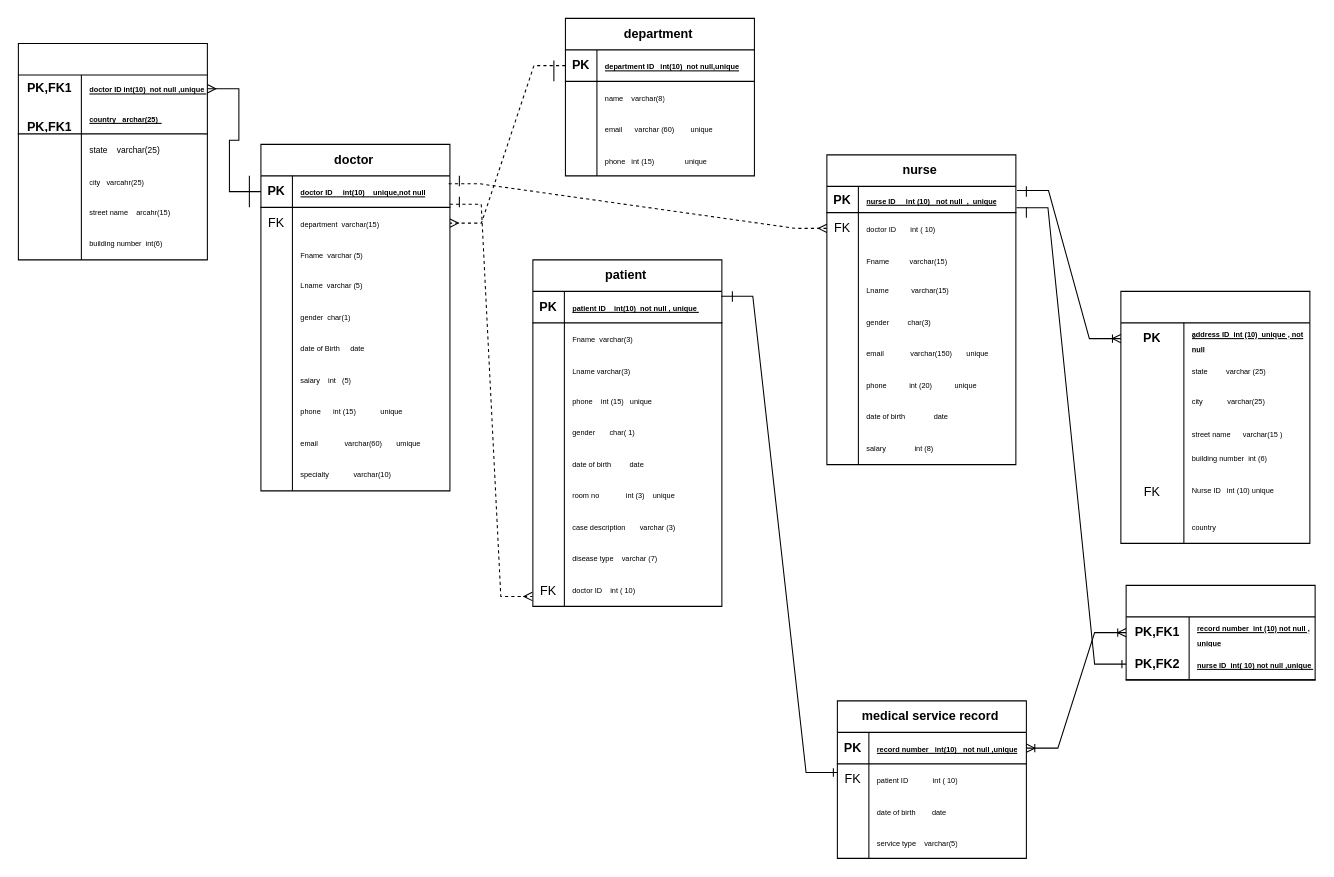
The diagram is 1334 pixels wide and 877 high, and some of its shapes have lost their labels. Each missing label, with the box of its shape:
doctor addresses: (17, 43, 207, 260)
nurse addresses: (1120, 290, 1310, 543)
service management: (1125, 584, 1315, 680)
